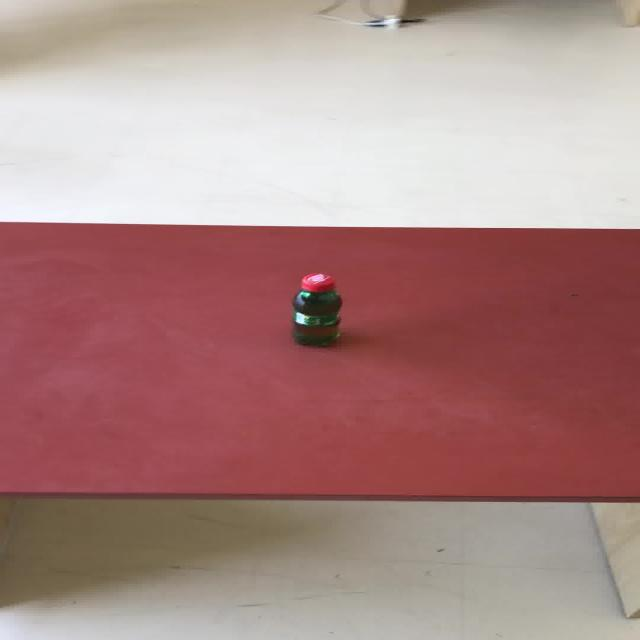guarana: (289, 272, 343, 346)
